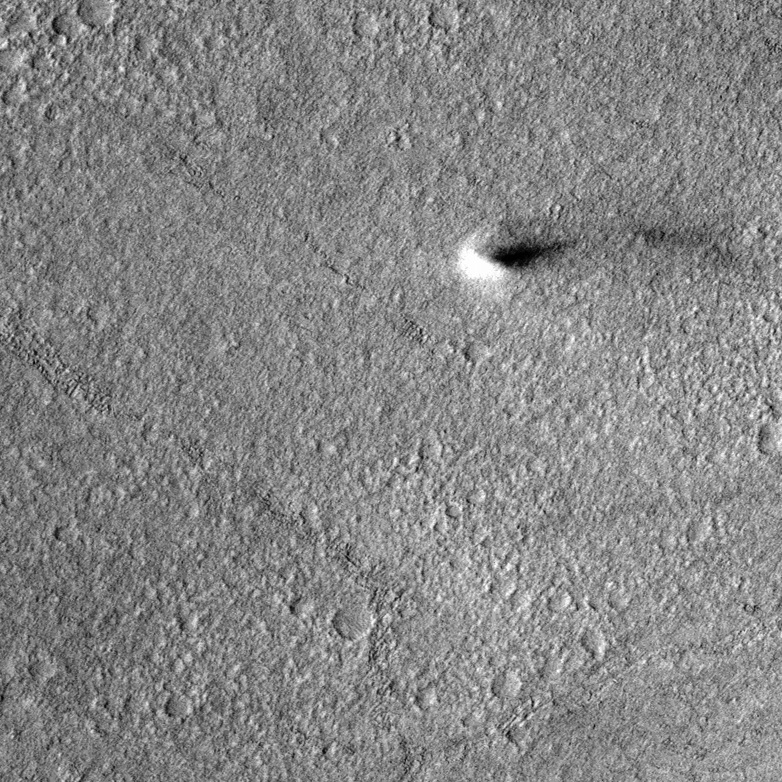dust_devil: (454, 221, 575, 288)
